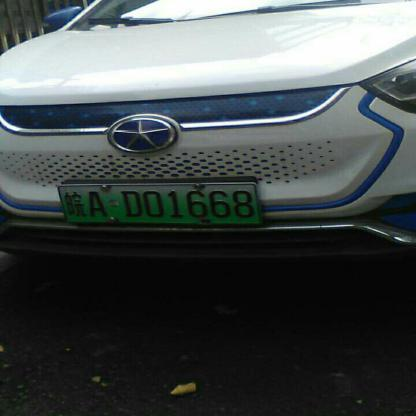lp: (57, 184, 69, 222)
